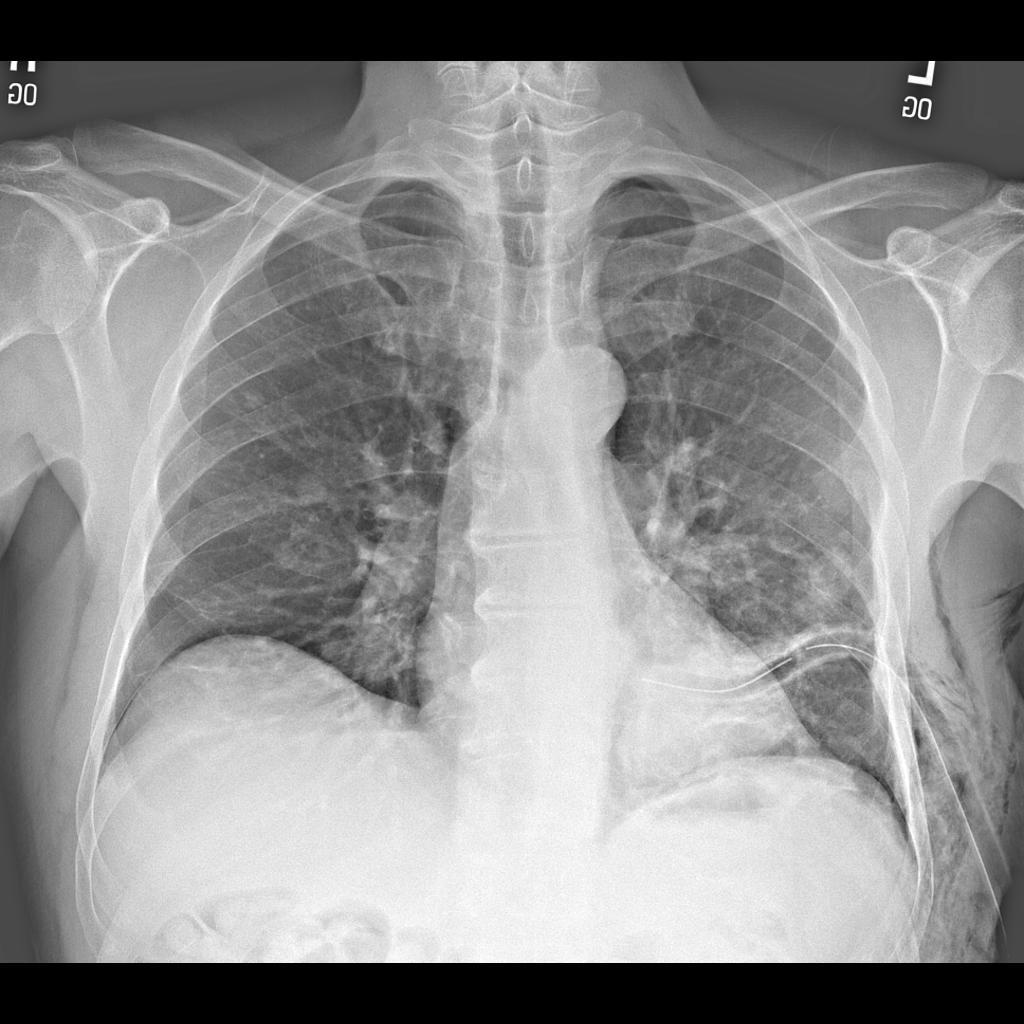Nodule: (773, 532, 869, 634), (291, 468, 343, 520)
